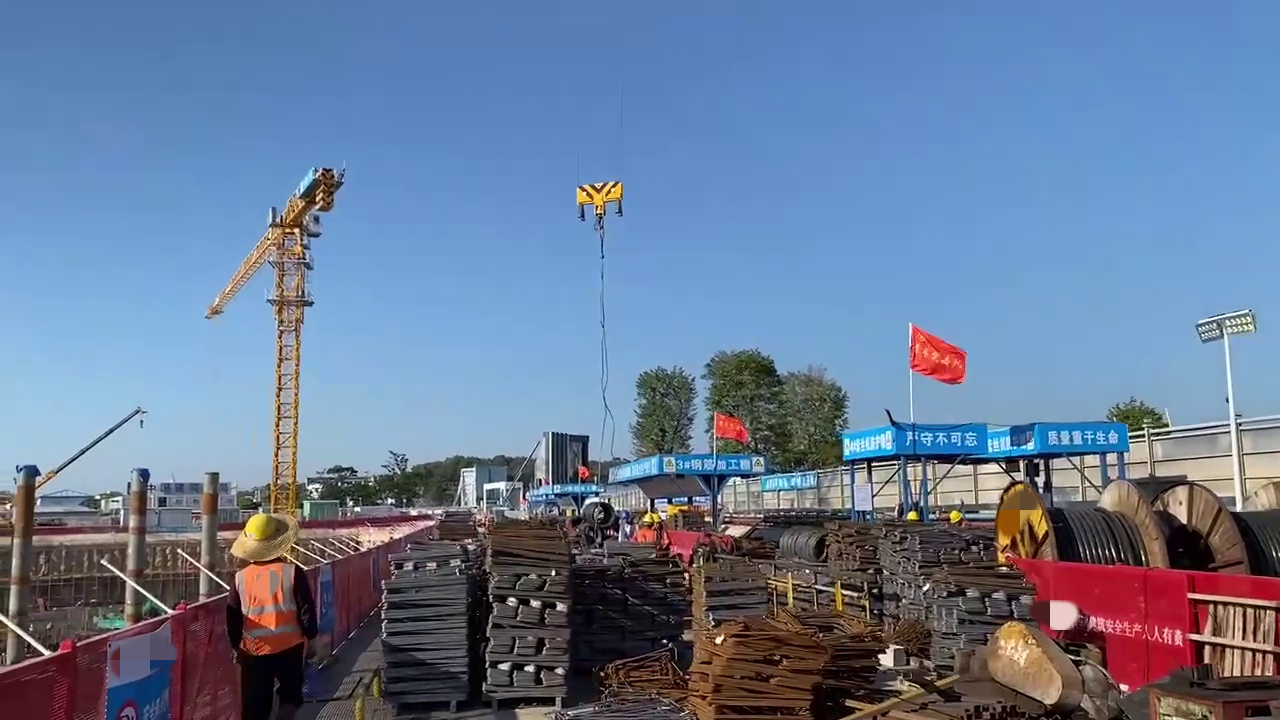fence: (4, 594, 216, 720), (317, 537, 381, 671)
helmet: (242, 514, 281, 541)
hook: (575, 179, 622, 218)
person: (224, 512, 309, 720), (634, 511, 658, 544)
rebar: (828, 525, 996, 640), (485, 518, 571, 700), (386, 536, 474, 690), (698, 631, 844, 720), (793, 606, 892, 688), (603, 646, 703, 695)
slogan: (1088, 617, 1187, 650), (1036, 424, 1129, 450), (897, 425, 991, 450)
vest: (237, 565, 298, 656)
